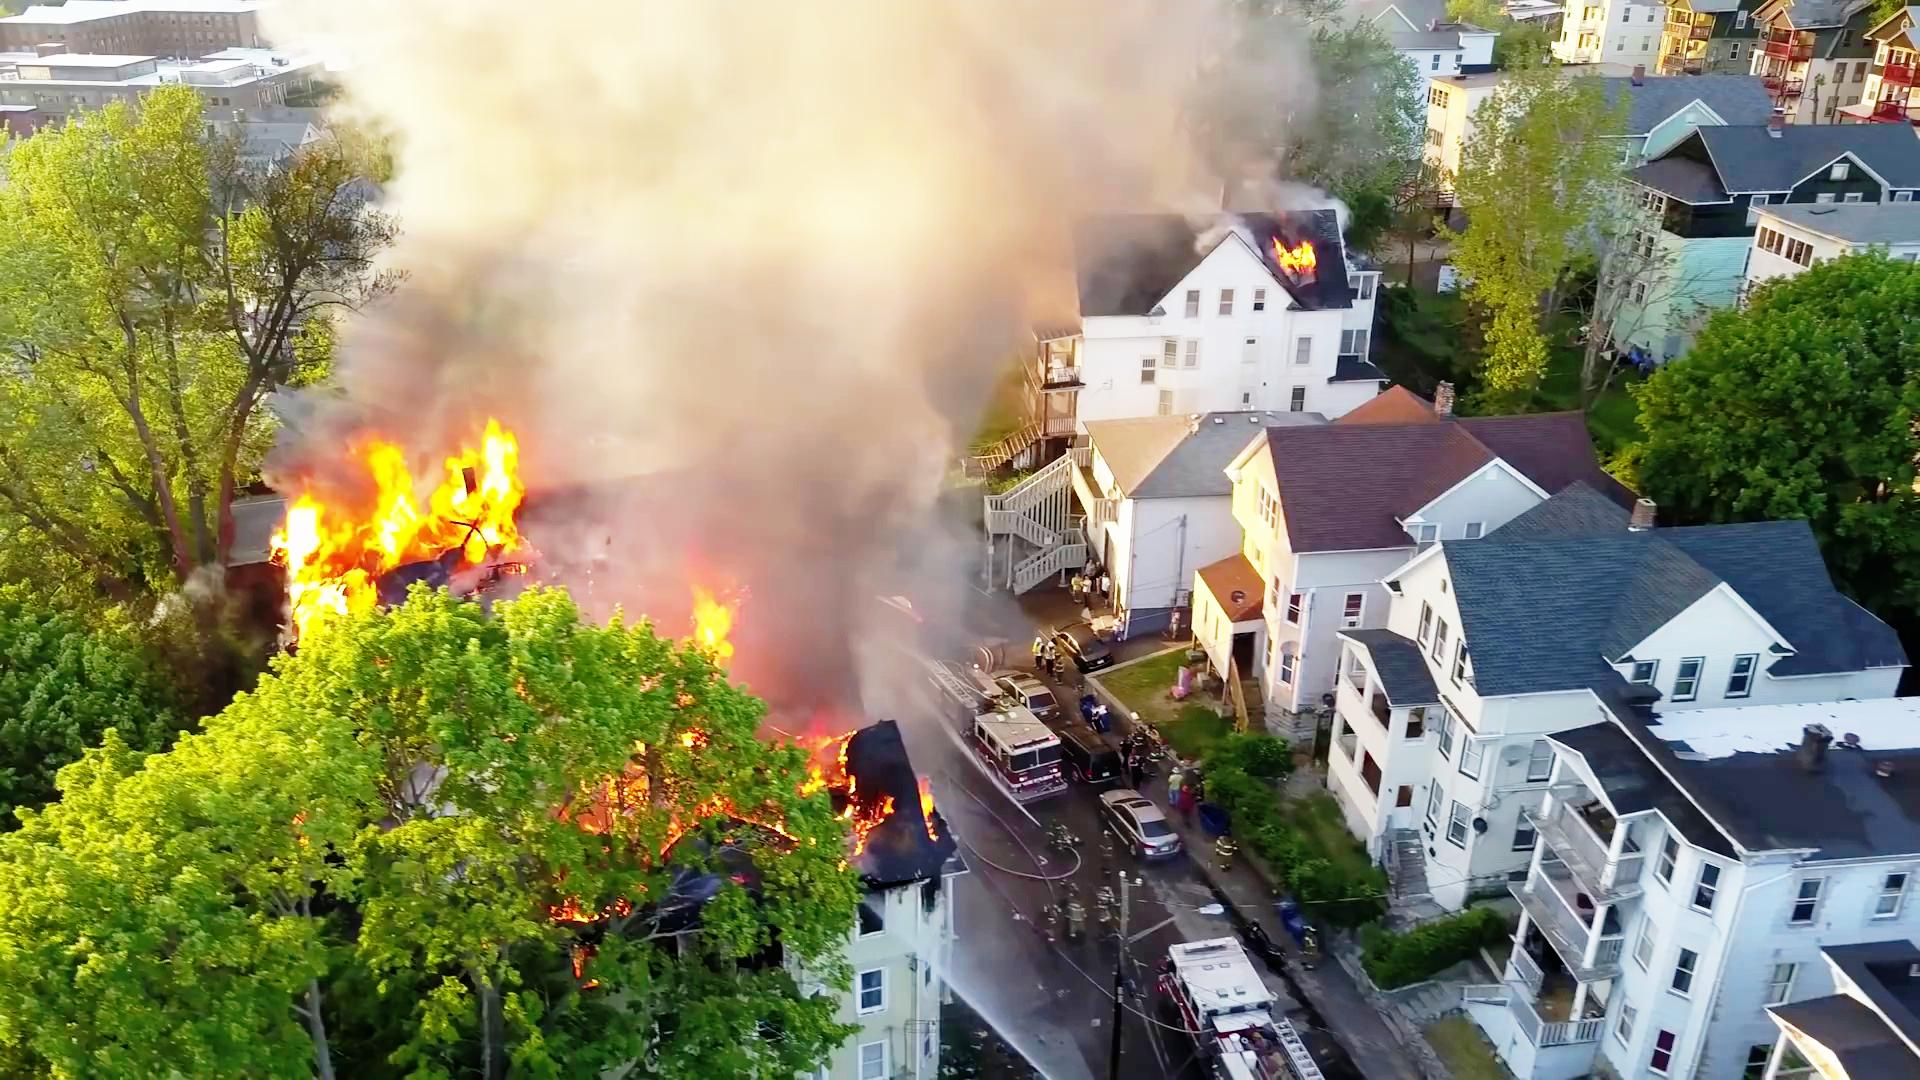fire: (256, 401, 527, 579), (688, 553, 741, 662)
smoke: (496, 22, 1009, 281)
